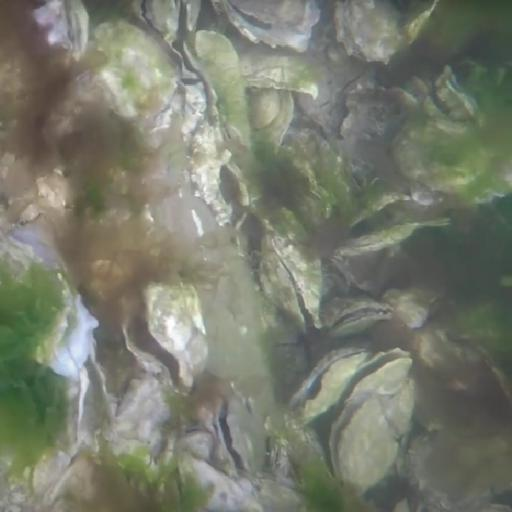Oyster-Closed: (88, 23, 178, 116), (336, 1, 441, 66), (180, 451, 253, 512), (243, 48, 321, 96), (246, 90, 293, 163)
Oyster-Open: (117, 275, 216, 393), (334, 387, 418, 499), (327, 197, 446, 264), (256, 231, 323, 336), (296, 345, 367, 425), (217, 1, 315, 54), (50, 287, 98, 394), (215, 394, 272, 478), (408, 70, 475, 141), (338, 345, 410, 411)
